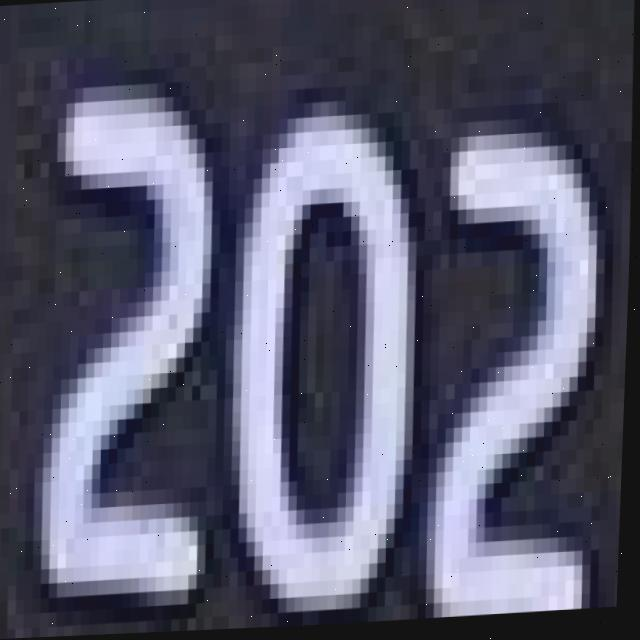character: (208, 96, 431, 630), (24, 64, 232, 627), (416, 113, 624, 618)
